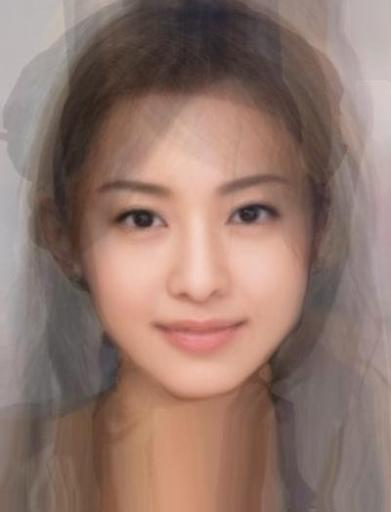left_eye: (225, 202, 283, 232)
left_lip_corner: (235, 312, 255, 335)
right_eye: (111, 207, 171, 235)
right_lip_corner: (148, 316, 168, 338)
